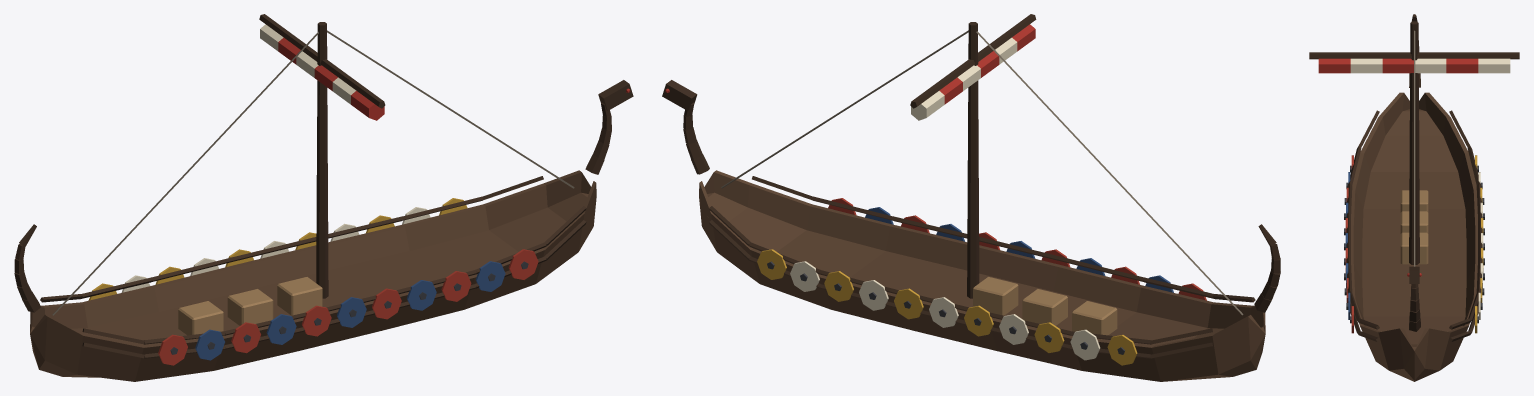
The model's file is forest_longship.glb.
The picture shows the model from 3 angles, left to right: view 1: azimuth 30°, elevation 25°; view 2: azimuth 150°, elevation 25°; view 3: azimuth 270°, elevation 25°; orthographic projection. The views are drawn at different scales.
Parts seen in each view (by area): view 1: forest_longship; view 2: forest_longship; view 3: forest_longship.
Boxes of the visible parts, <box> form: forest_longship: <box>14,14,633,381</box>; forest_longship: <box>662,14,1280,381</box>; forest_longship: <box>1309,14,1519,381</box>.
Bounding box in the file's own units: 13.7 × 6.55 × 4.6.
